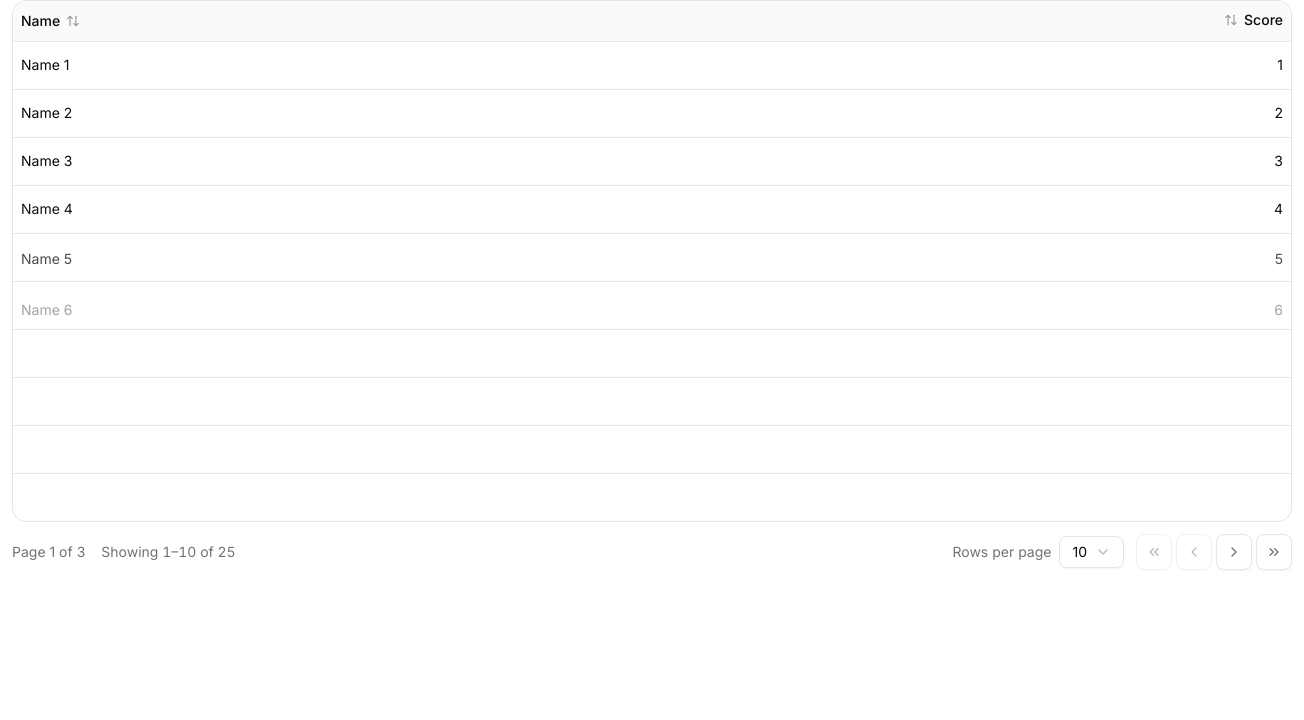
Scenario: <DataTable /> — row motion › re-runs the entrance on the next page, not just the first
This screenshot has width=1304, height=720.
Click the button named "Next page" at (1234, 552), box 1216,534 -> 1252,570
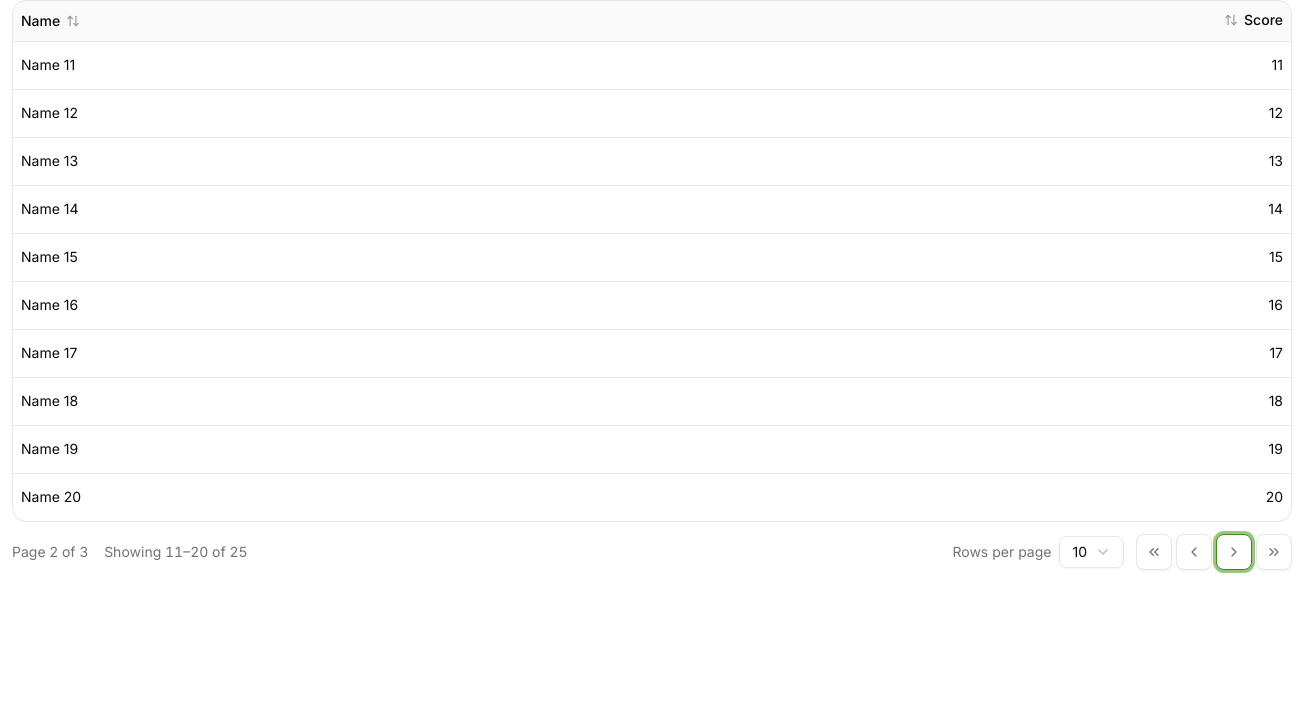
Expected: the cell "Name 11" is shown, 13,41 -> 657,89
